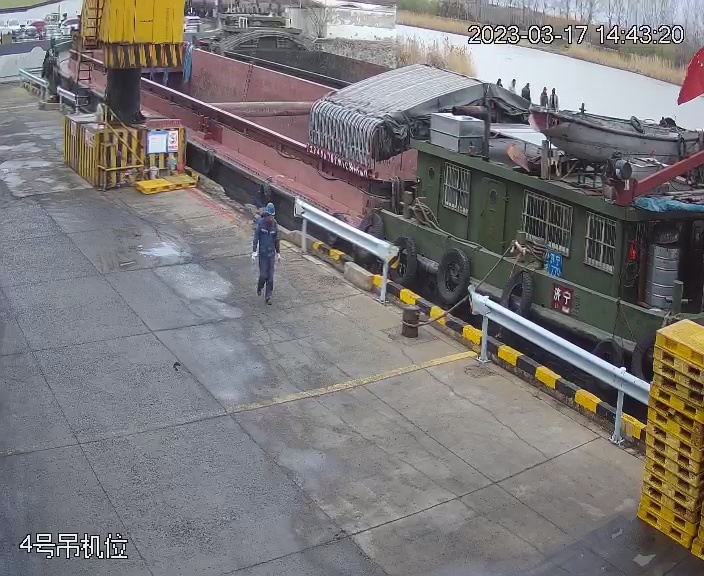head: (258, 204, 280, 235)
helmet: (265, 203, 277, 217)
people: (250, 197, 283, 303)
